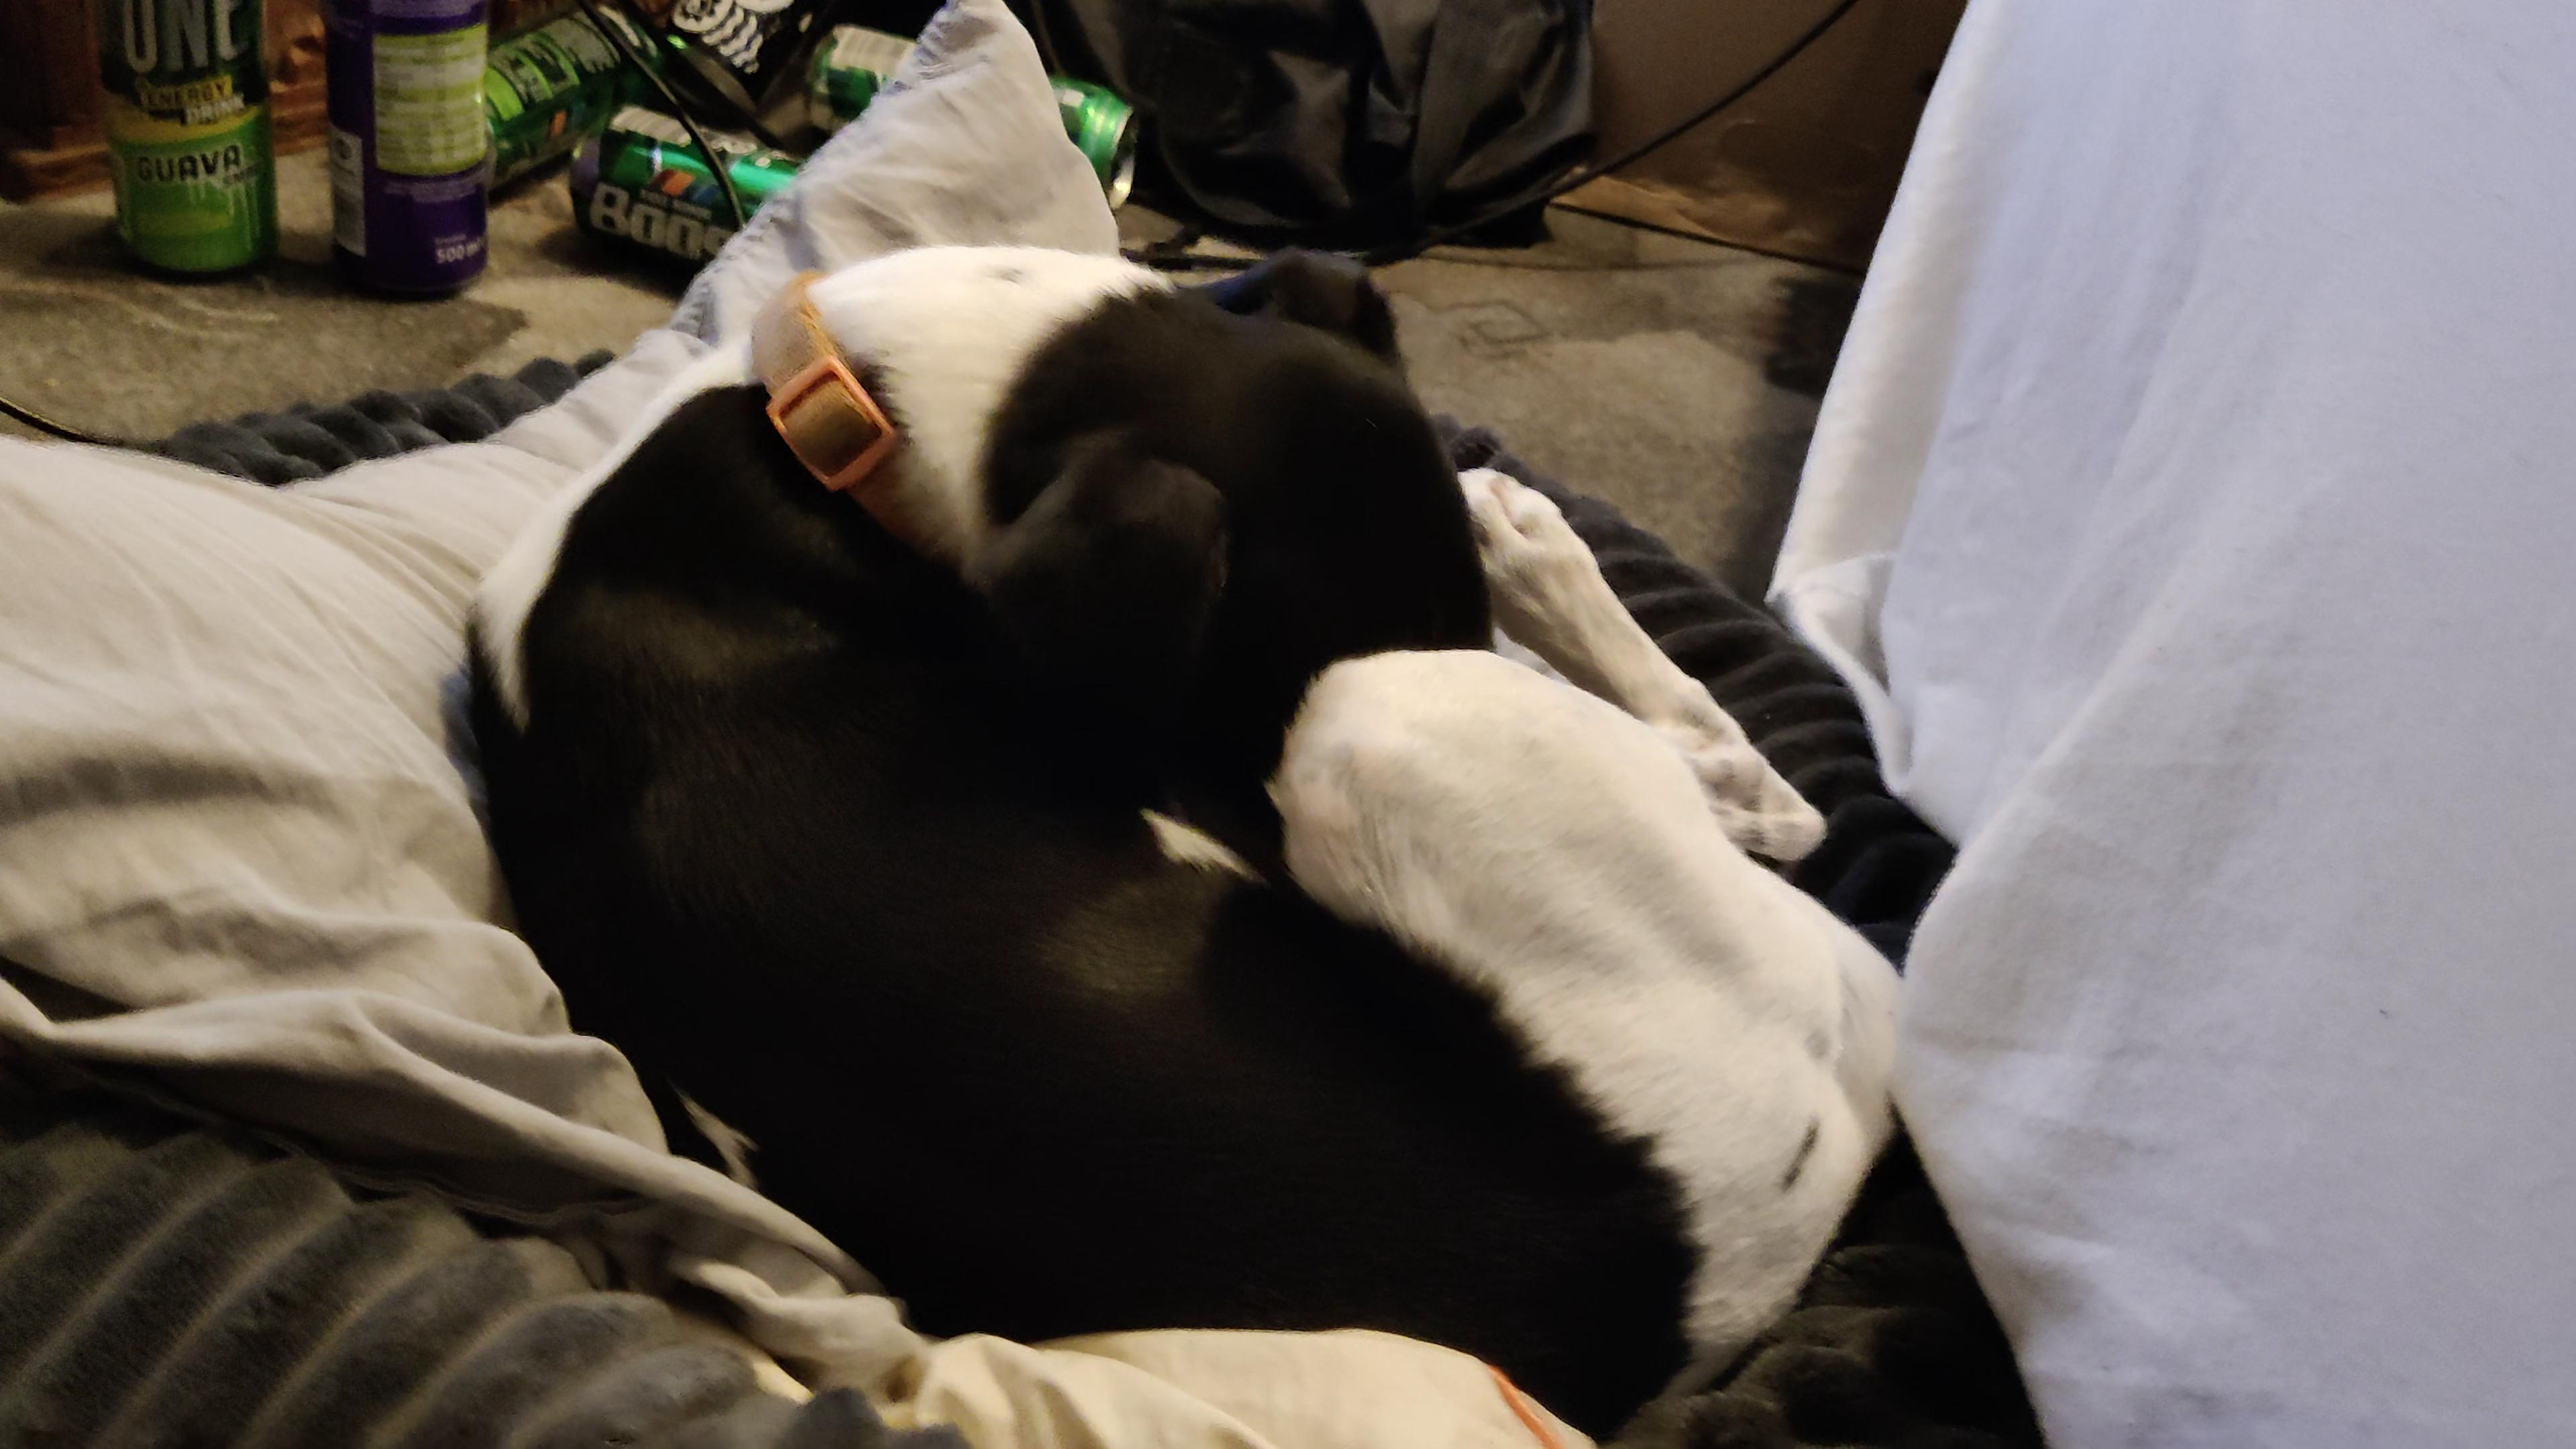Dog: (428, 180, 1902, 1426)
